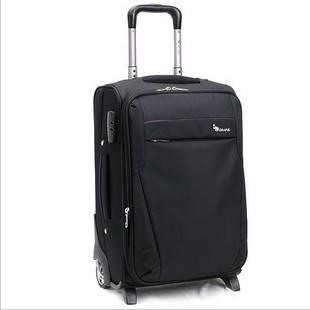luggage: (91, 4, 247, 306)
